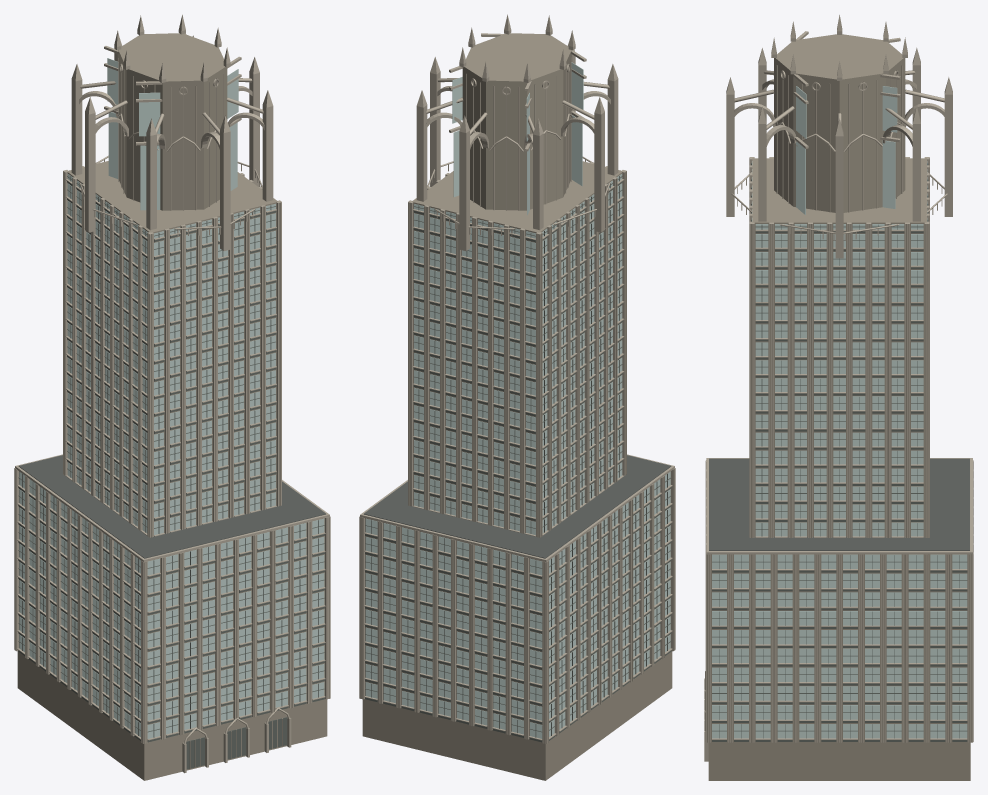
The model's file is tribune_tower.glb.
3 renders of one model, left to right at view 1: azimuth 30°, elevation 25°; view 2: azimuth 150°, elevation 25°; view 3: azimuth 270°, elevation 25°, orthographic. The views are drawn at different scales.
Parts seen in each view (by area): view 1: Raised limestone tracery, Night warm windows, Indiana limestone, Recessed bronze spandrels, Dark terrace roofing; view 2: Raised limestone tracery, Indiana limestone, Night warm windows, Recessed bronze spandrels, Dark terrace roofing; view 3: Indiana limestone, Night warm windows, Raised limestone tracery, Recessed bronze spandrels, Dark terrace roofing.
Part boxes in pixels (box(x1,y1,x2,y2)): Raised limestone tracery: box(14, 14, 330, 773); Night warm windows: box(19, 58, 324, 738); Indiana limestone: box(14, 33, 329, 780); Recessed bronze spandrels: box(18, 176, 324, 769); Dark terrace roofing: box(18, 455, 325, 558); Raised limestone tracery: box(359, 14, 675, 743); Indiana limestone: box(360, 33, 675, 780); Night warm windows: box(365, 62, 670, 738); Recessed bronze spandrels: box(365, 176, 671, 742); Dark terrace roofing: box(364, 455, 671, 558); Indiana limestone: box(705, 34, 973, 780); Night warm windows: box(712, 86, 967, 738); Raised limestone tracery: box(704, 15, 973, 761); Recessed bronze spandrels: box(712, 163, 967, 741); Dark terrace roofing: box(709, 458, 969, 550).
Bounding box in the file's own units: 41.12 × 141 × 49.36.
